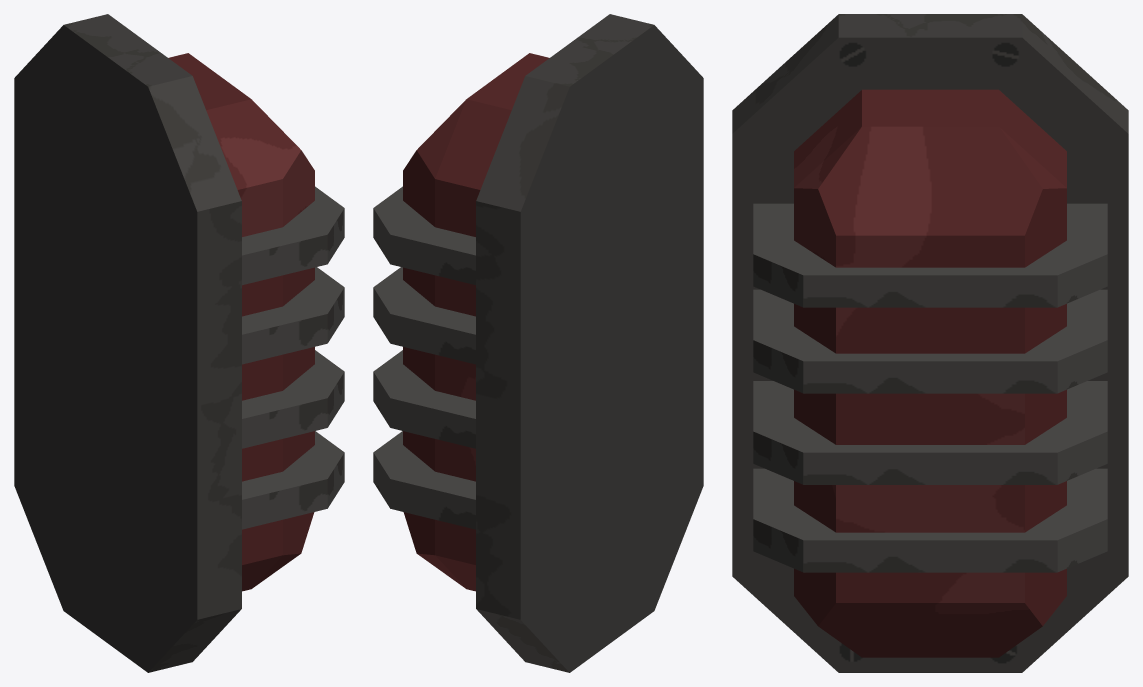
The model's file is industrialLightA.obj.
3 renders of one model, left to right at view 1: azimuth 30°, elevation 25°; view 2: azimuth 150°, elevation 25°; view 3: azimuth 270°, elevation 25°, orthographic. The views are drawn at different scales.
Parts seen in each view (by area): view 1: Cube, Cube.001, Cube.003, Cube.004, Cube.002, Cube.005; view 2: Cube, Cube.001, Cube.003, Cube.004, Cube.002, Cube.005; view 3: Cube.001, Cube, Cube.003, Cube.005, Cube.004, Cube.002.
Part boxes in pixels (box(x1,y1,x2,y2)): Cube: box(14, 14, 241, 672); Cube.001: box(168, 53, 314, 591); Cube.003: box(242, 186, 344, 285); Cube.004: box(242, 350, 344, 448); Cube.002: box(242, 267, 344, 364); Cube.005: box(242, 431, 344, 529); Cube: box(476, 14, 703, 672); Cube.001: box(403, 53, 549, 591); Cube.003: box(373, 186, 475, 285); Cube.004: box(373, 350, 475, 448); Cube.002: box(373, 267, 475, 364); Cube.005: box(373, 431, 475, 529); Cube.001: box(794, 89, 1066, 657); Cube: box(732, 14, 1128, 672); Cube.003: box(753, 203, 1107, 307); Cube.005: box(753, 468, 1107, 572); Cube.004: box(753, 381, 1107, 484); Cube.002: box(753, 289, 1107, 393).
Size of the model in its own units: 1.14 by 3.54 by 2.
Materials: 6 (6 with a texture image).
